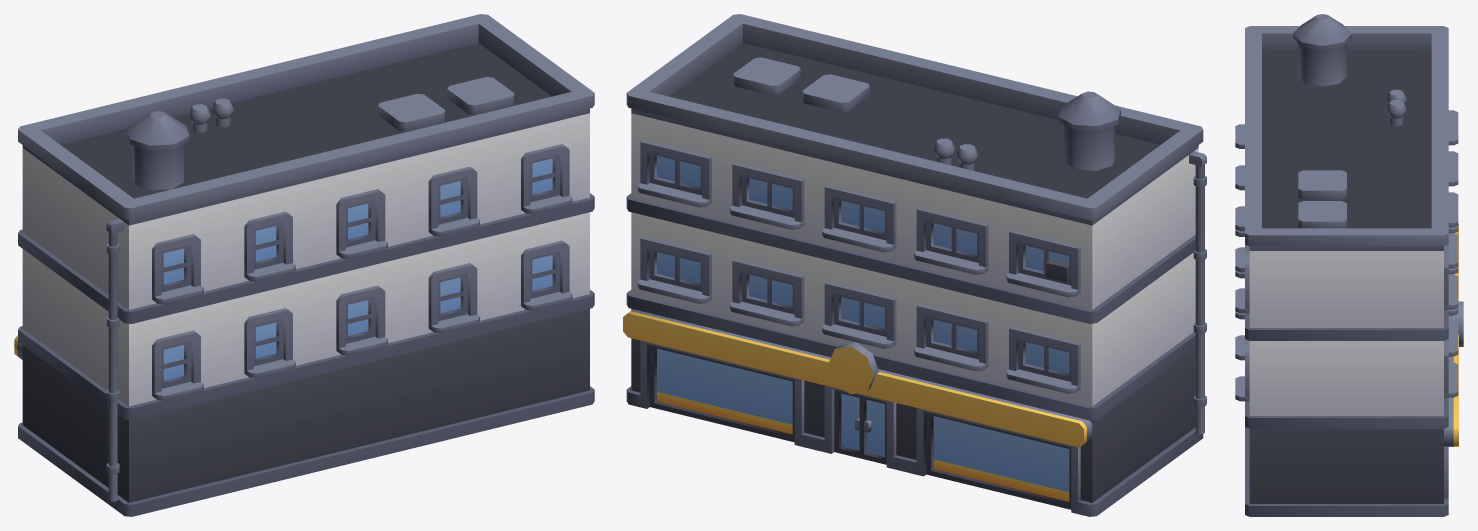
The model's file is kenney-city-commercial-building-k.glb.
3 views of the same model, side by side, from view 1: azimuth 30°, elevation 25°; view 2: azimuth 150°, elevation 25°; view 3: azimuth 270°, elevation 25° (orthographic). The views are drawn at different scales.
Parts seen in each view (by area): view 1: building-k; view 2: building-k; view 3: building-k.
Boxes of the visible parts, <box> form: building-k: <box>14,14,594,516</box>; building-k: <box>623,14,1206,516</box>; building-k: <box>1235,14,1463,516</box>.
Bounding box in the file's own units: 2.08 × 1.47 × 0.9419.
1 material, 1 textured.
